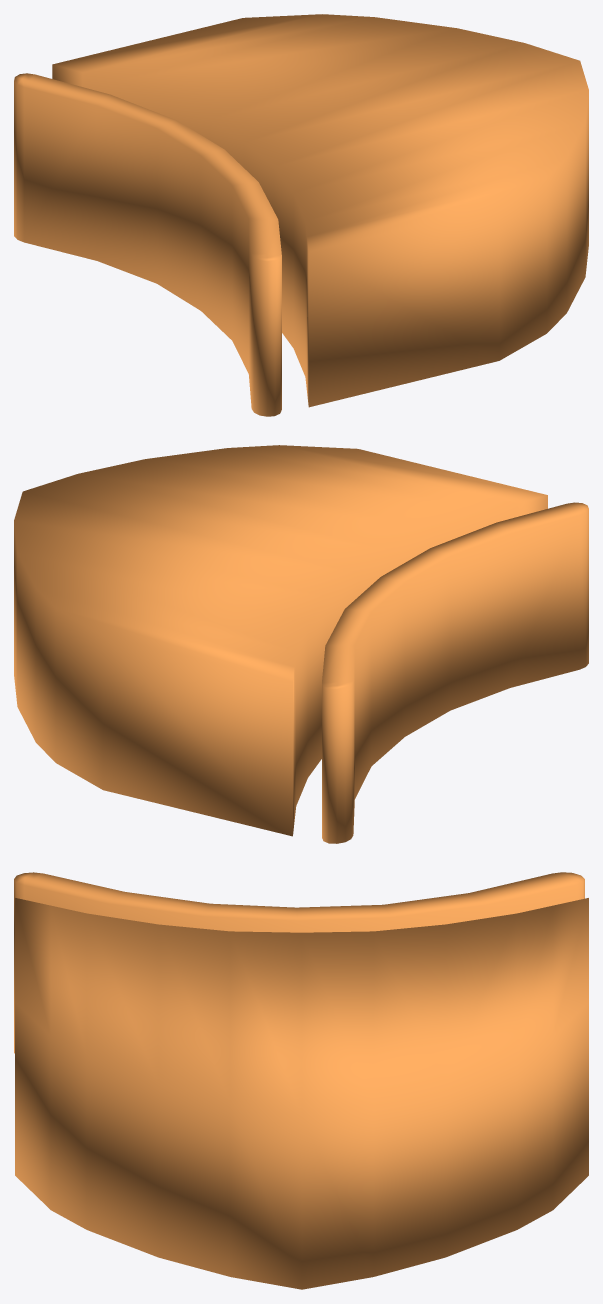
Rendered from XOR.glb.
3 views of the same model, one above another, from view 1: azimuth 30°, elevation 25°; view 2: azimuth 150°, elevation 25°; view 3: azimuth 270°, elevation 25° (orthographic). The views are drawn at different scales.
Parts seen in each view (by area): view 1: 6; view 2: 6; view 3: 6.
Boxes of the visible parts, x1=… form: 6: x1=14, y1=14, x2=588, y2=416; 6: x1=14, y1=445, x2=588, y2=843; 6: x1=14, y1=872, x2=588, y2=1289.
Size of the model in its own units: 3.01 by 1 by 3.
